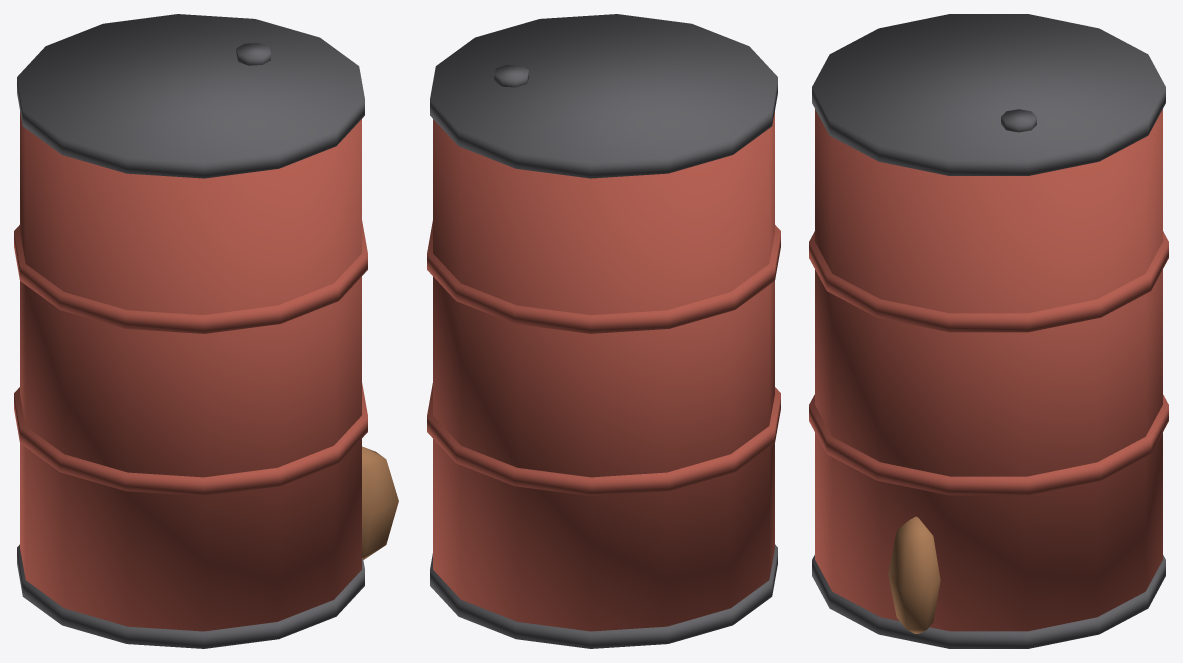
Rendered from v_drum_red.glb.
3 views of the same model, side by side, from view 1: azimuth 30°, elevation 25°; view 2: azimuth 150°, elevation 25°; view 3: azimuth 270°, elevation 25° (orthographic).
Visible parts, largest first — view 1: Drum; view 2: Drum; view 3: Drum.
Boxes of the visible parts, <box> form: Drum: <box>14,14,398,648</box>; Drum: <box>427,14,780,648</box>; Drum: <box>809,14,1168,648</box>.
Size of what is drawn, in the model's own units: 0.6118 by 0.915 by 0.6.
